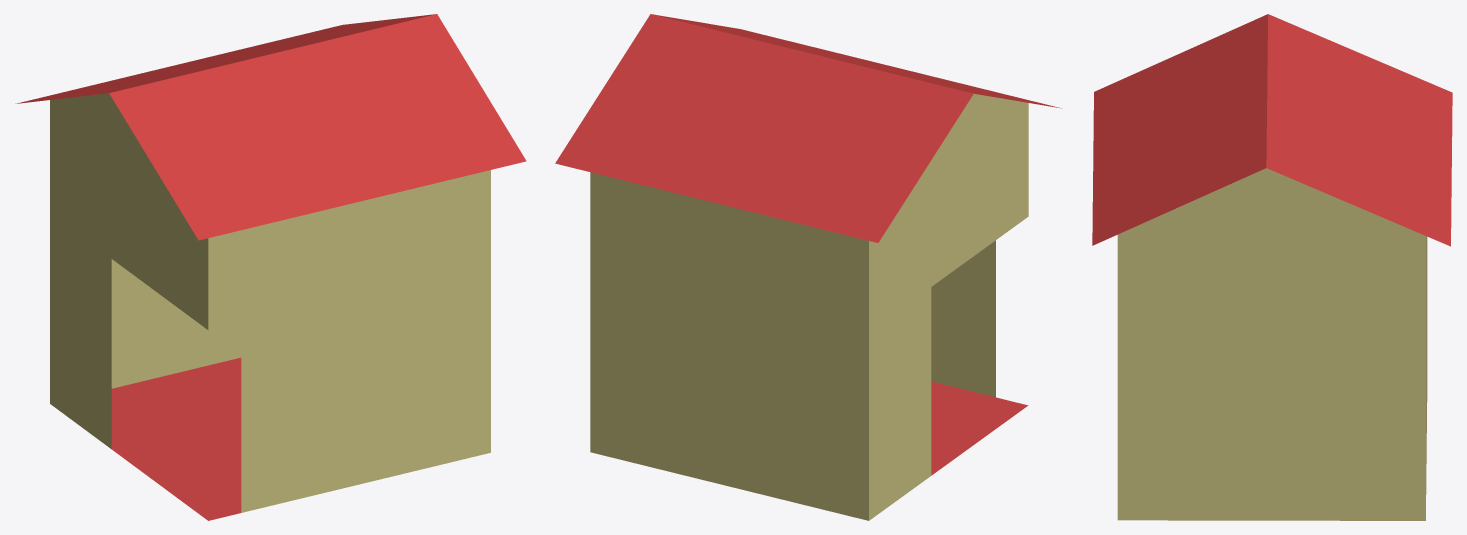
3 renders of one model, left to right at view 1: azimuth 30°, elevation 25°; view 2: azimuth 150°, elevation 25°; view 3: azimuth 270°, elevation 25°, orthographic. The views are drawn at different scales.
Bounding box in the file's own units: 10.9 × 10.73 × 11.94.
